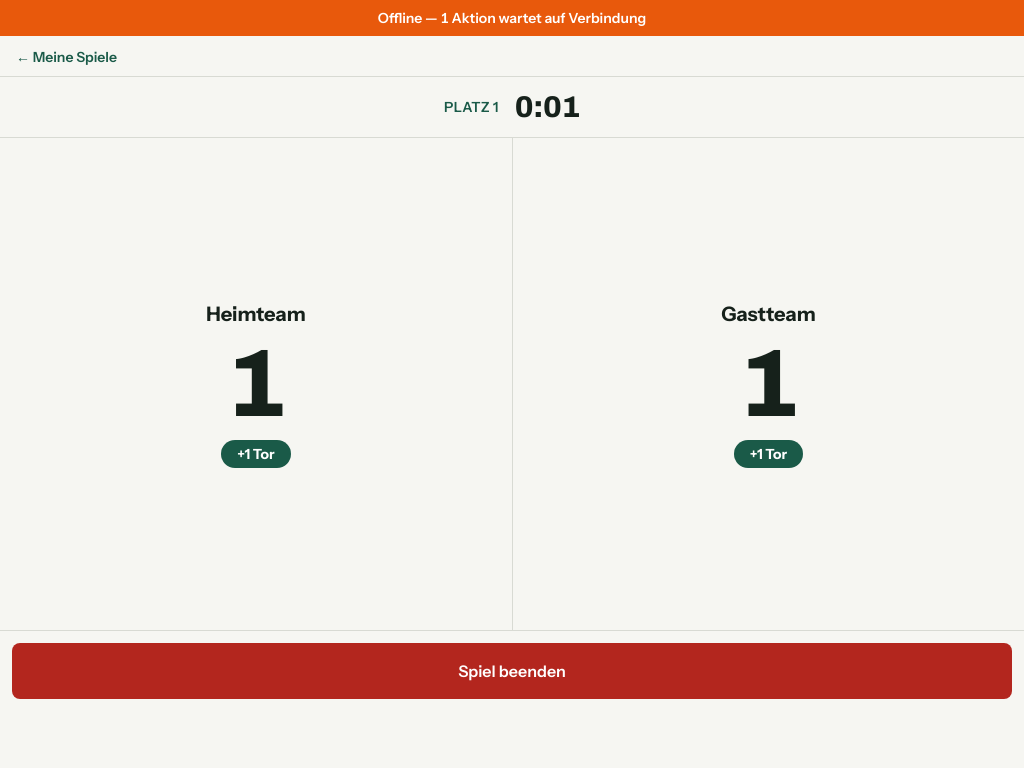
it: RefereeMatch offline penalties › asks for the penalty result without needing the server's 409
This screenshot has width=1024, height=768.
What coordinates should you click on to do the following:
click the button "Spiel beenden"
I would click on:
 (512, 671)
Its box is x1=12 y1=643 x2=1012 y2=699.
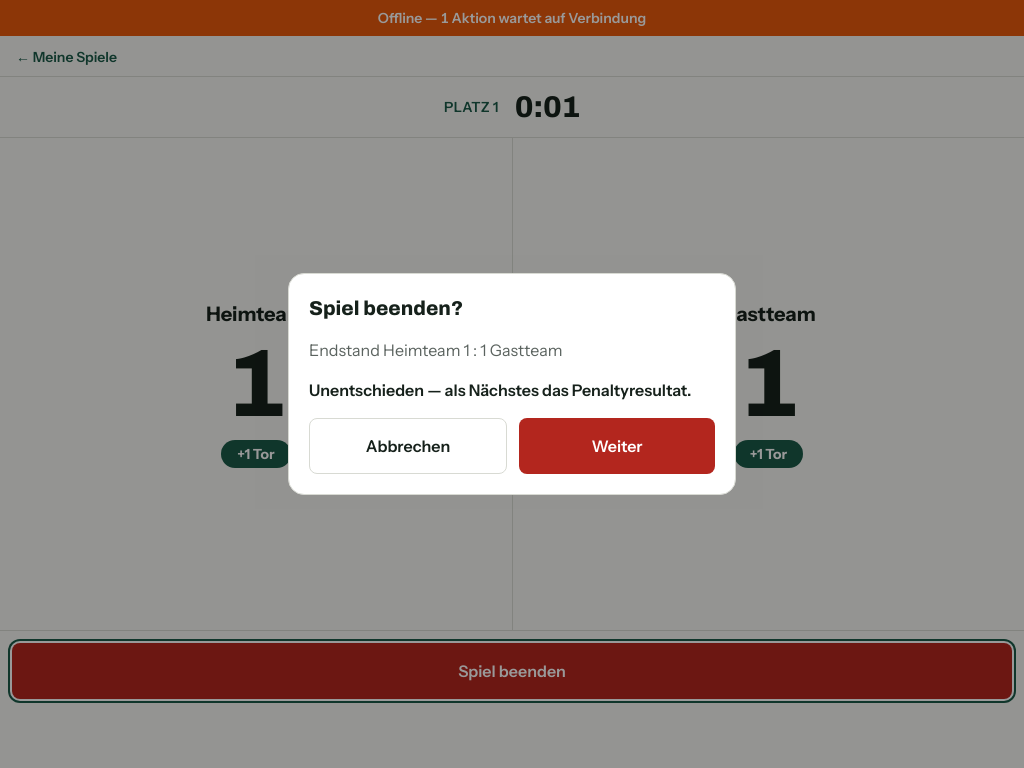
What coordinates should you click on to do the following:
click the button "Weiter"
I would click on:
 (617, 446)
Its box is x1=519 y1=418 x2=715 y2=474.
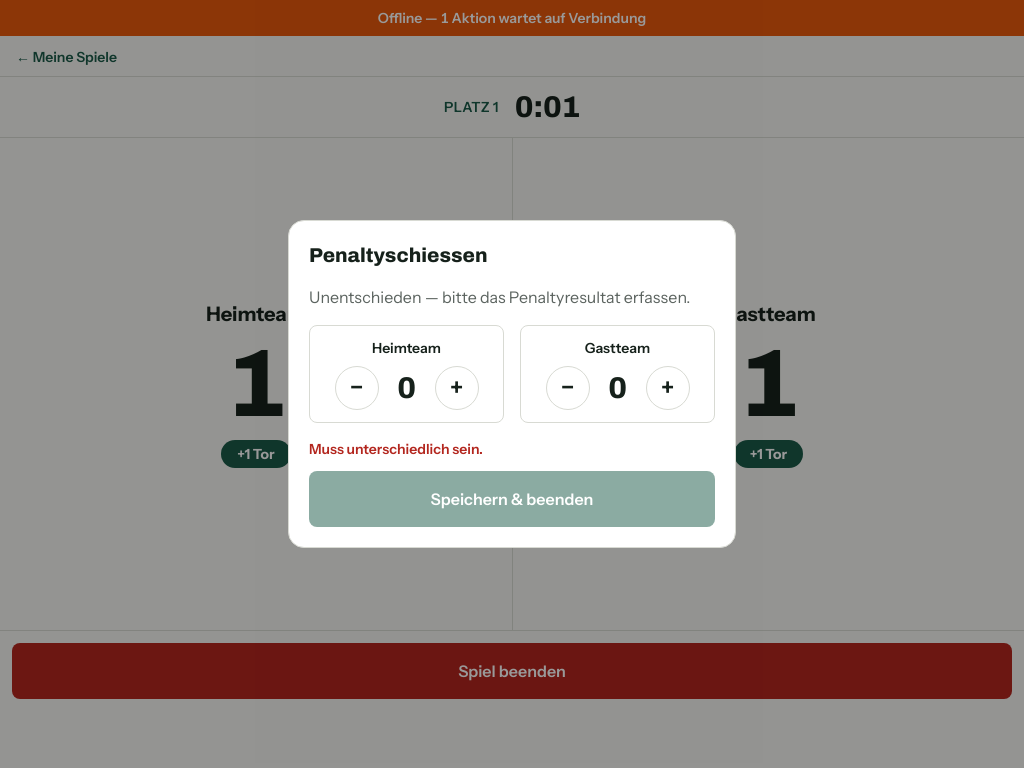
Check: the heading "Penaltyschiessen" is shown, box x1=309 y1=244 x2=488 y2=266
